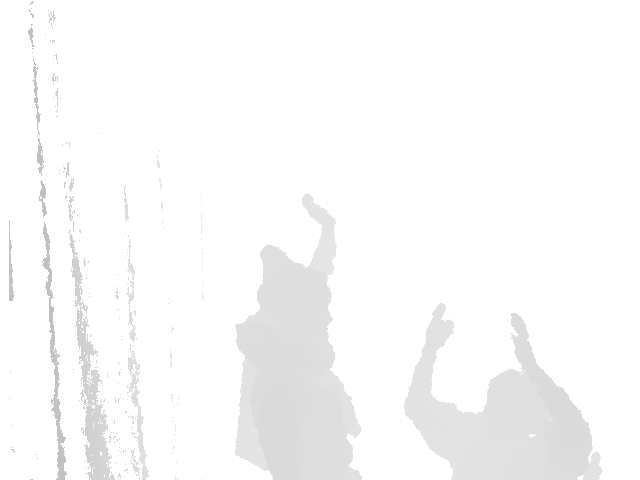hand: (422, 305, 456, 358), (507, 311, 536, 366), (300, 190, 337, 226)
head: (256, 244, 334, 332), (483, 369, 548, 433)
person: (234, 190, 364, 480), (405, 302, 603, 480)
